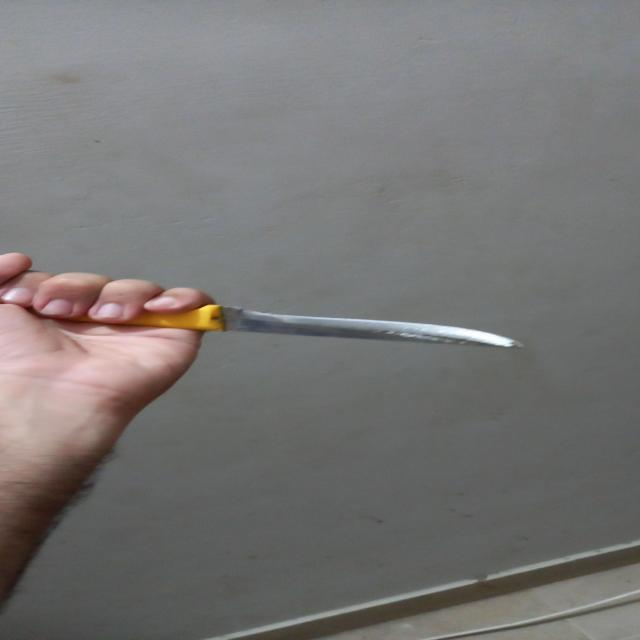knife: (69, 303, 525, 349)
